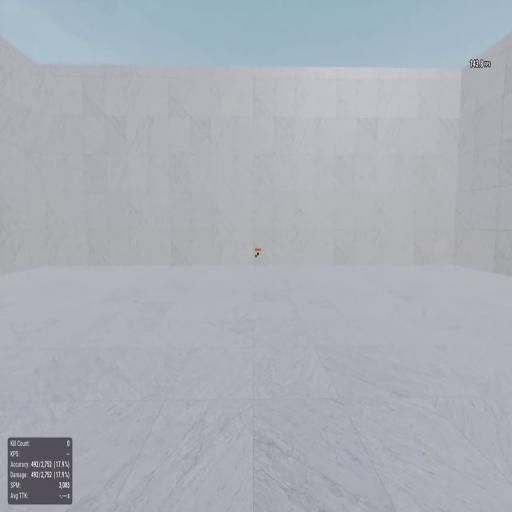Crosshair: (255, 254, 257, 258)
Target: (257, 251, 259, 256)
